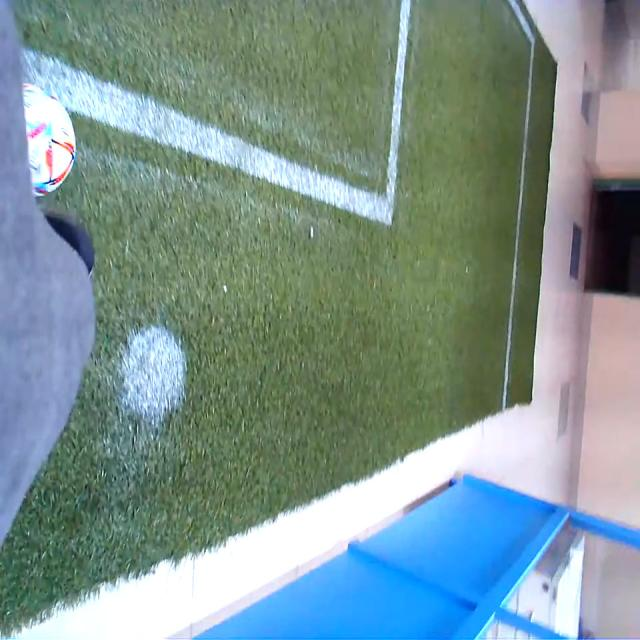ball: (22, 83, 78, 199)
